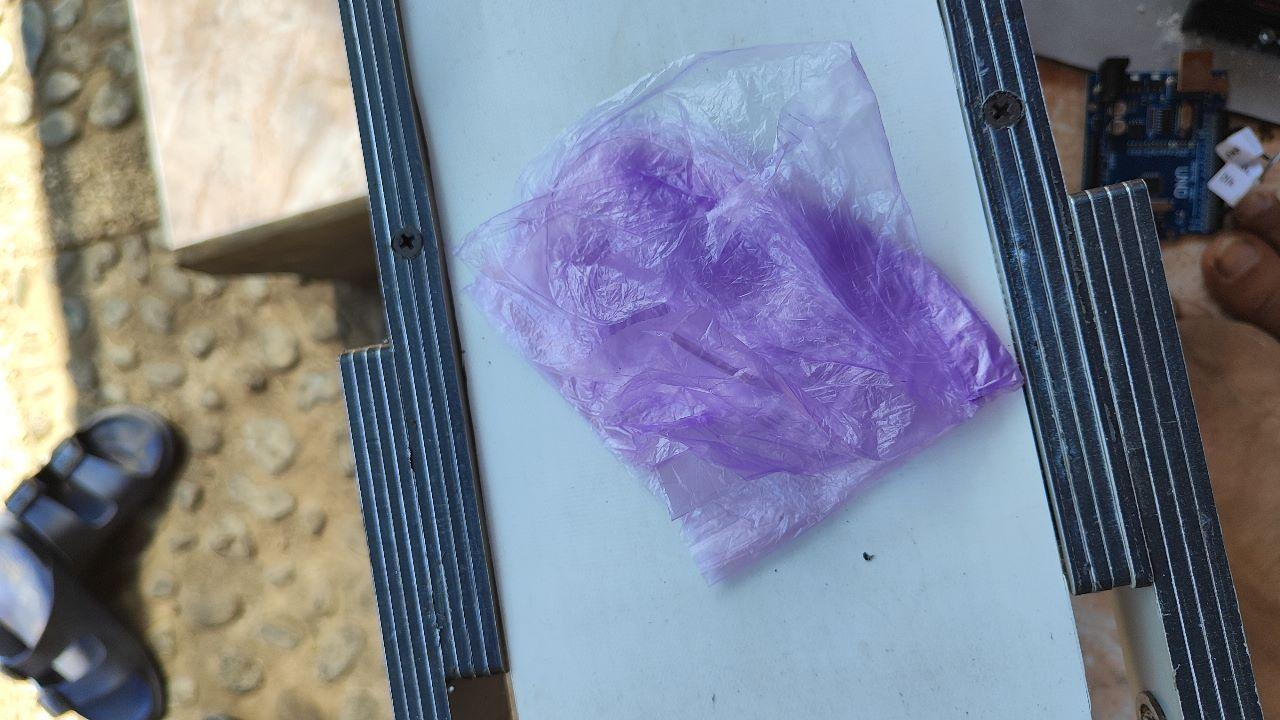Plastik: (452, 37, 1022, 587)
